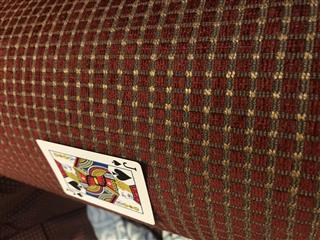JackOfSpades: (35, 138, 156, 225)
